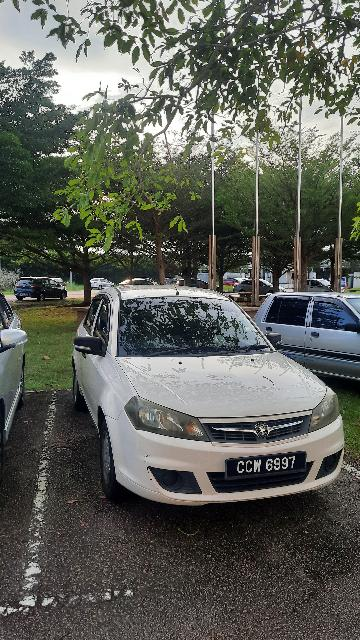License_Plate: (223, 449, 319, 484)
car: (71, 280, 352, 519), (257, 285, 360, 393)
